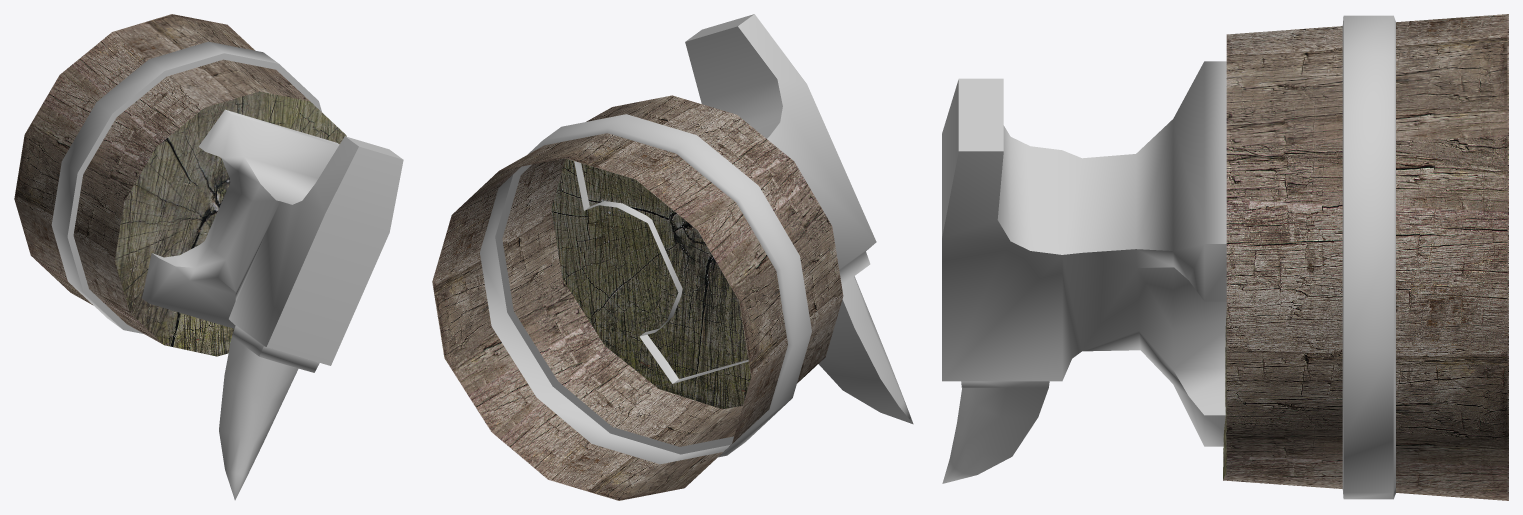
The model's file is anvil.fbx.
The picture shows the model from 3 angles, left to right: view 1: azimuth 30°, elevation 25°; view 2: azimuth 150°, elevation 25°; view 3: azimuth 270°, elevation 25°; orthographic projection. The views are drawn at different scales.
Parts seen in each view (by area): view 1: object; view 2: object; view 3: object.
Part boxes in pixels (left/top/right/bottom): object: left=14, top=14, right=403, bottom=500; object: left=432, top=14, right=913, bottom=500; object: left=942, top=14, right=1508, bottom=500.
Bounding box in the file's own units: 69.52 × 80.76 × 80.01.
